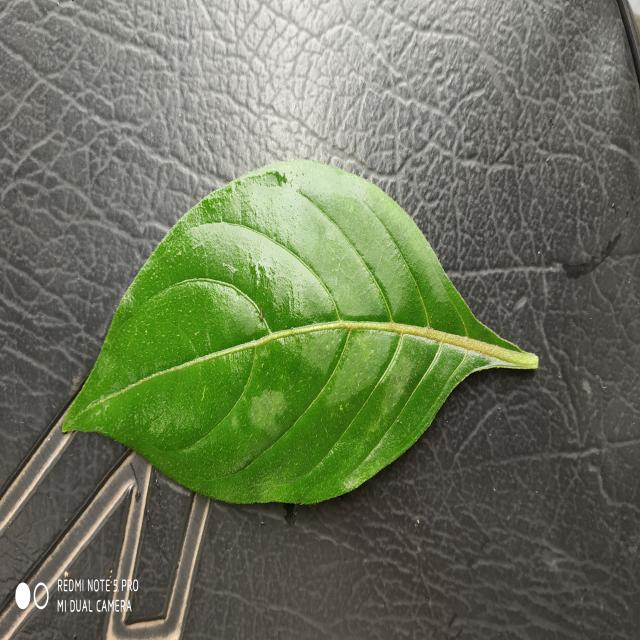ganike: (62, 160, 538, 504)
